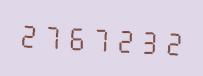seven: (41, 16, 64, 54), (89, 19, 112, 56)
six: (65, 18, 88, 55)
three: (137, 21, 160, 59)
two: (17, 15, 40, 52), (113, 20, 136, 57), (161, 23, 184, 60)
